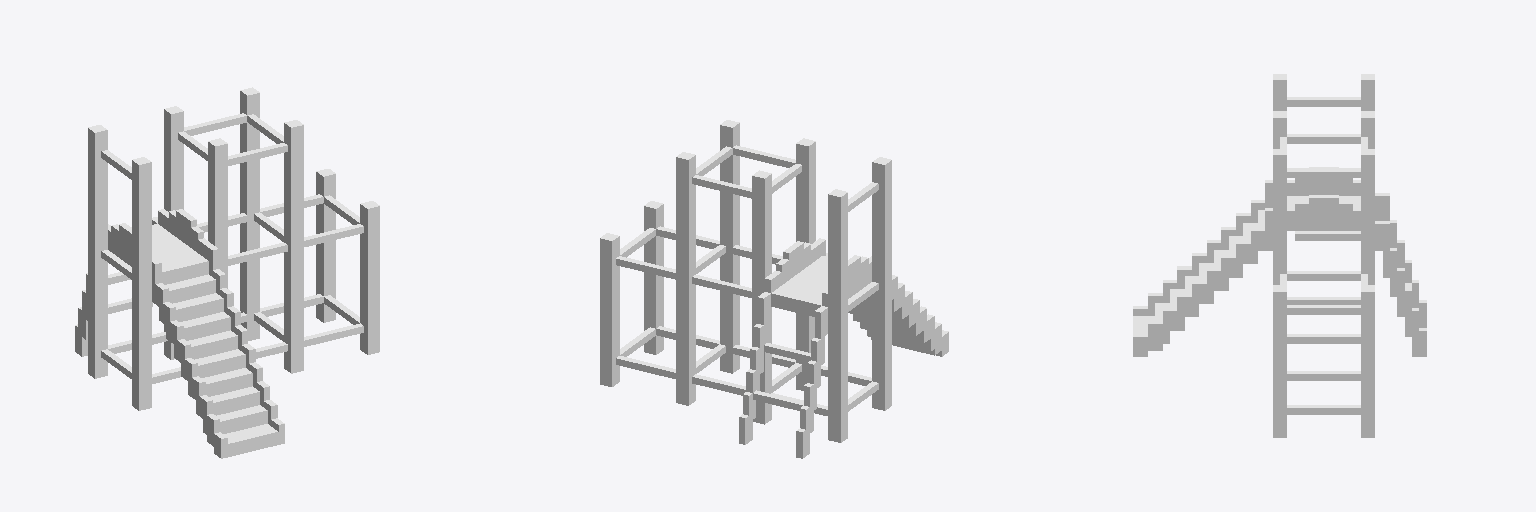
The model's file is suberidai1.obj.
3 renders of one model, left to right at view 1: azimuth 30°, elevation 25°; view 2: azimuth 150°, elevation 25°; view 3: azimuth 270°, elevation 25°, orthographic.
Parts seen in each view (by area): view 1: object 1; view 2: object 1; view 3: object 1.
Boxes of the visible parts, box(x1,y1,x2,y2) form: object 1: box(75, 87, 379, 458); object 1: box(600, 120, 948, 458); object 1: box(1133, 74, 1426, 437).
Bounding box in the file's own units: 3.8 × 3.7 × 4.